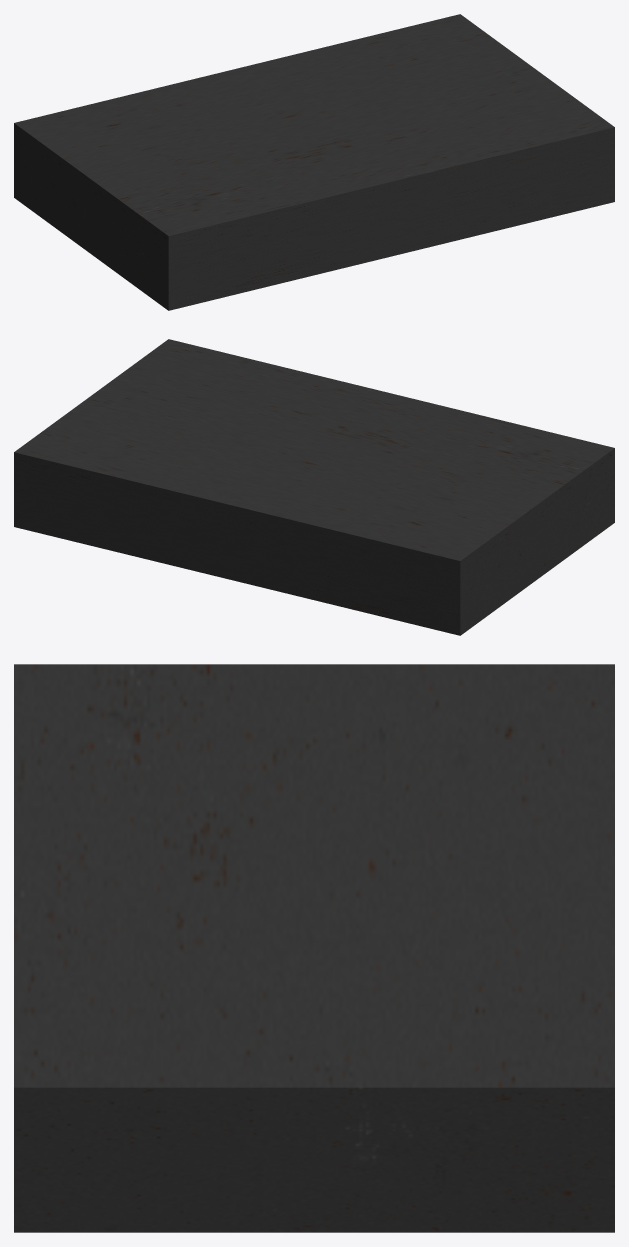
The model's file is box_station_1.dae.
3 views of the same model, one above another, from view 1: azimuth 30°, elevation 25°; view 2: azimuth 150°, elevation 25°; view 3: azimuth 270°, elevation 25° (orthographic). The views are drawn at different scales.
Visible parts, largest first — view 1: Cube.136; view 2: Cube.136; view 3: Cube.136.
Boxes of the visible parts, x1,y1,x2,y2 form: Cube.136: [14, 14, 614, 310]; Cube.136: [14, 339, 614, 635]; Cube.136: [14, 664, 614, 1232].
Bounding box in the file's own units: 0.5 × 0.3 × 0.08.
Materials: 1 (1 with a texture image).
